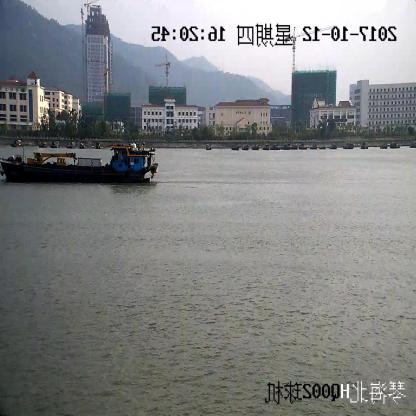Fishing Boat: (0, 142, 156, 186)
